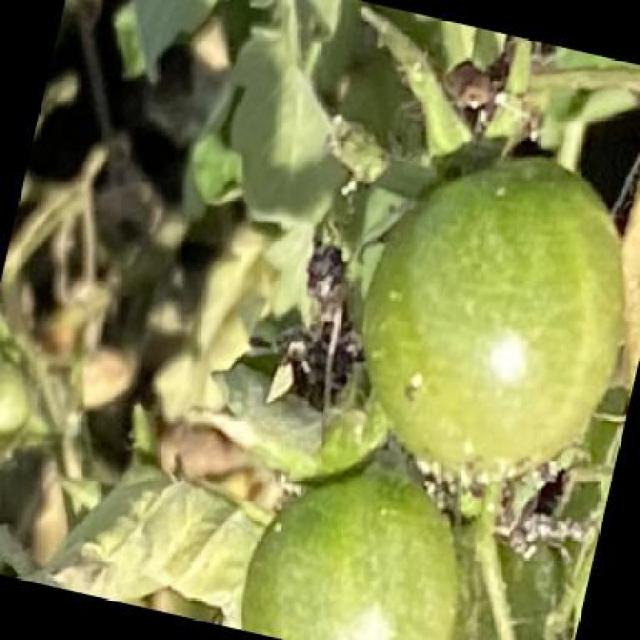unripe tomato: (328, 120, 638, 517), (228, 442, 492, 638)
